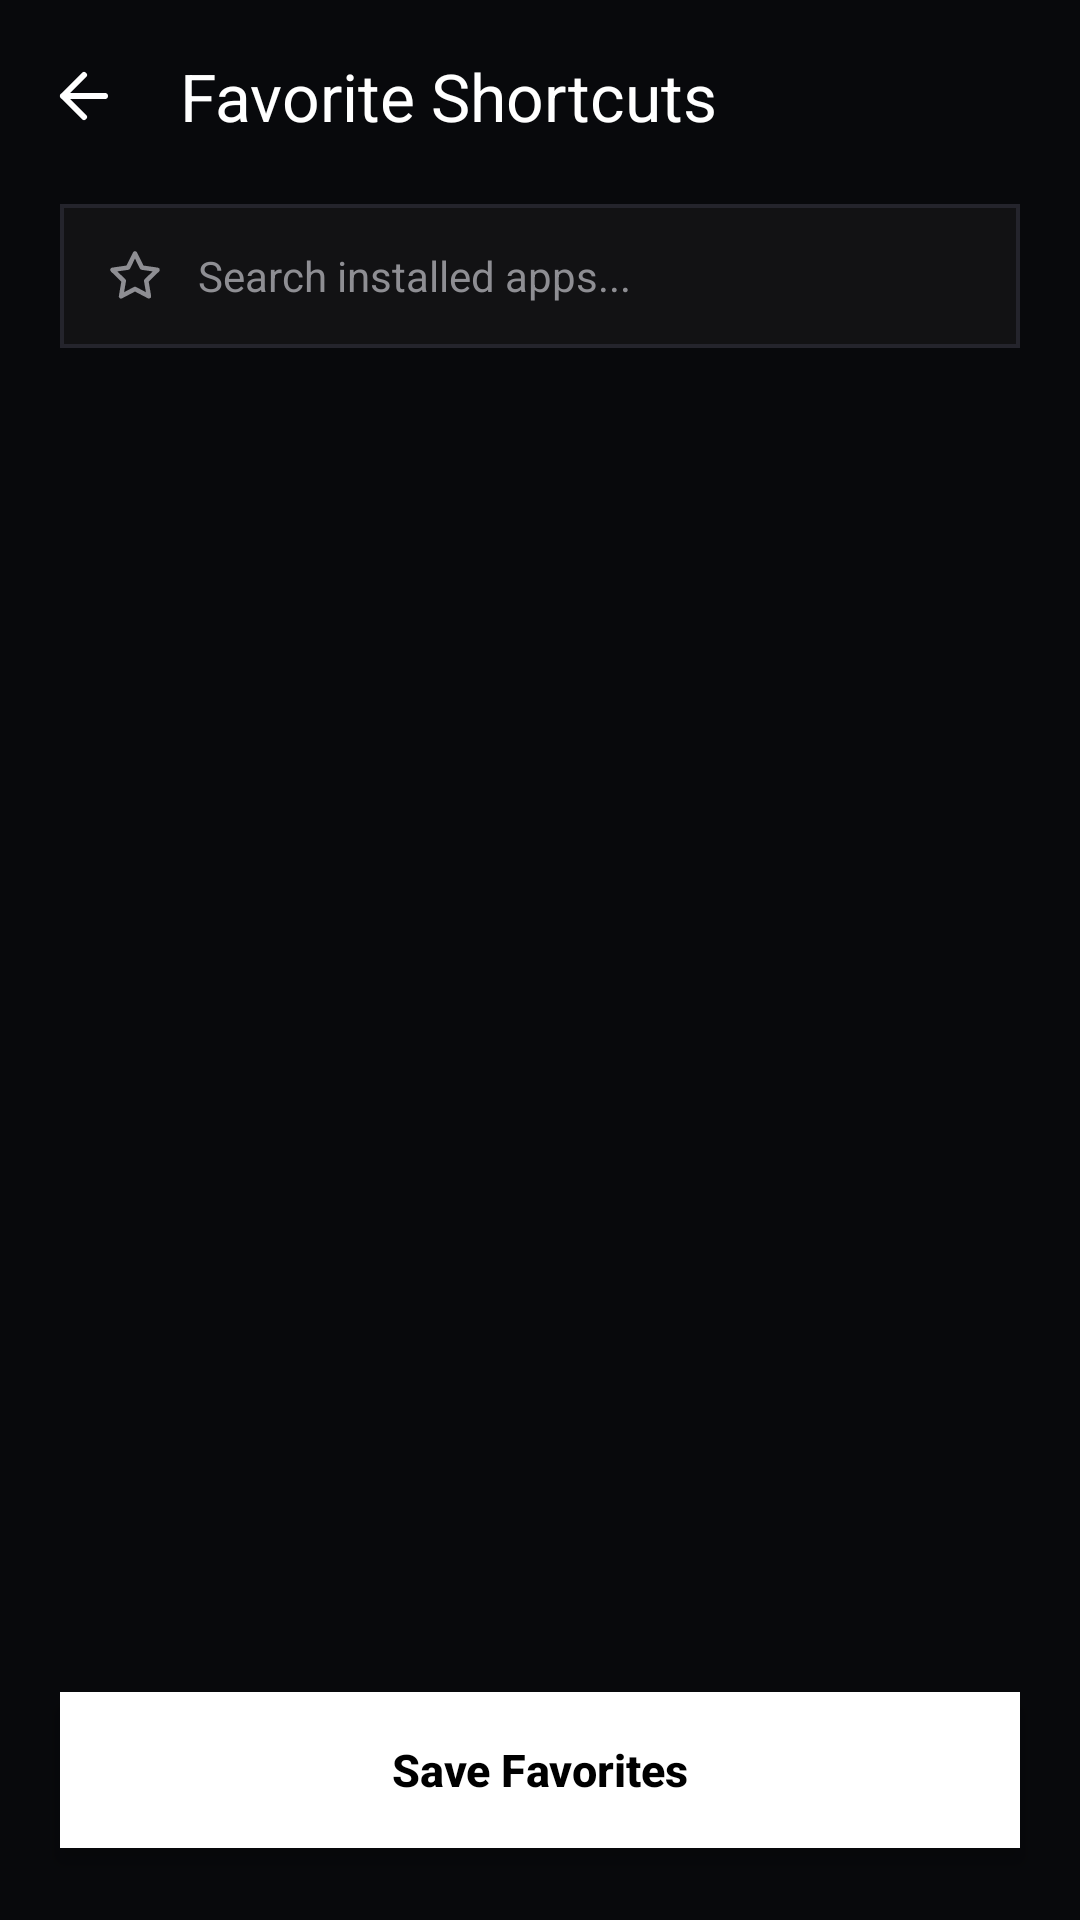

Screen size 1080 × 1920. Icon name, then its box in pixels as bbox(x1, y1, x2, y2):
lucide star: bbox(110, 251, 160, 299)
